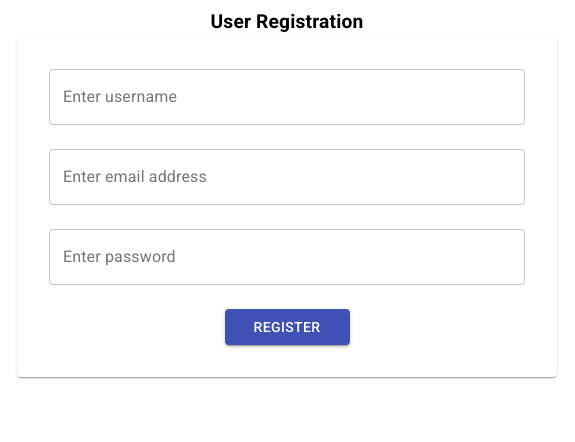
Test case: Register form › should show email, password invalid error message
Type "invalid email" into the field labelled "Enter email address" at x=287, y=177, box [49, 149, 525, 205]
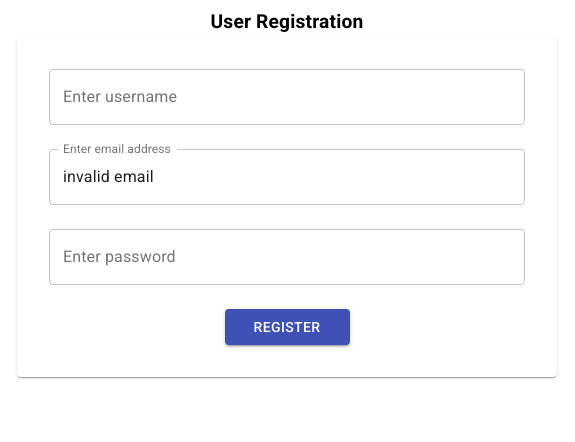
Type "pass" into the password field labelled "Enter password" at x=287, y=257, box [49, 229, 525, 285]
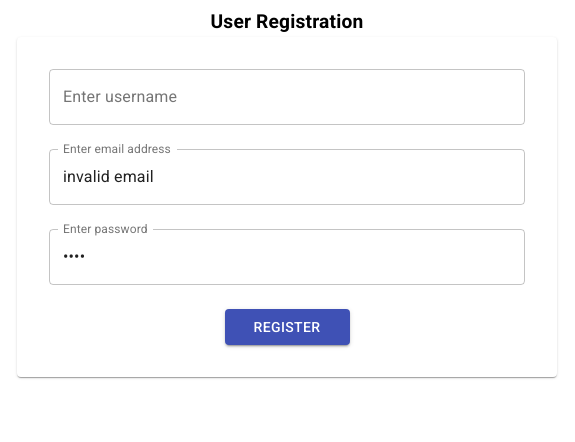
Type "username" into the field labelled "Enter username" at x=287, y=97, box [49, 69, 525, 125]
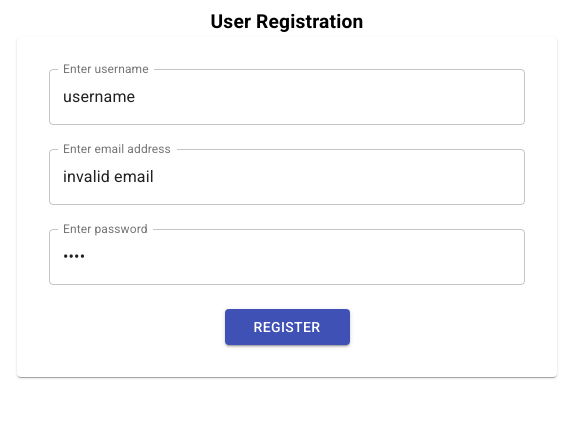
Submit the form from the button "Register", box [224, 309, 350, 345]
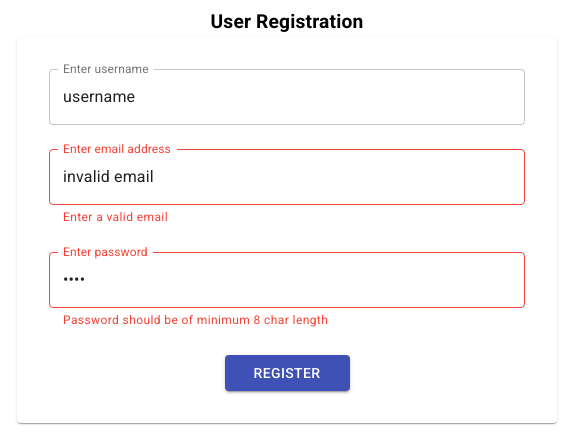
expect the text "Enter a valid email" is shown: met, box [63, 210, 168, 224]
expect the text "Password should be of minimum 8 char length" is shown: met, box [63, 313, 328, 327]
